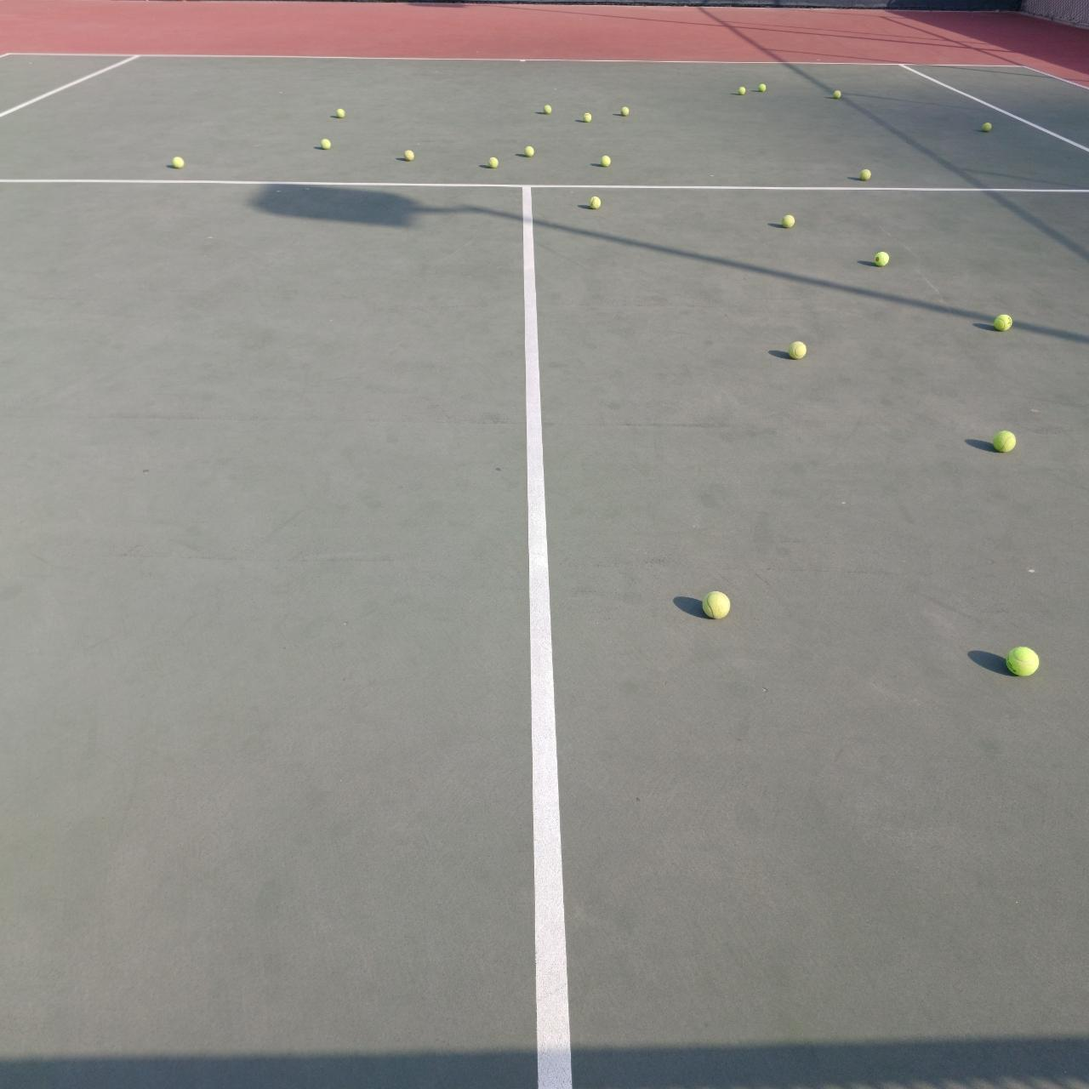tennis-ball: (1005, 643, 1040, 676), (701, 588, 731, 619), (990, 427, 1017, 453), (991, 311, 1012, 331), (787, 339, 807, 359), (872, 249, 889, 266), (170, 154, 184, 168), (782, 215, 795, 228), (589, 196, 601, 210), (860, 169, 872, 181), (320, 138, 331, 150), (600, 155, 611, 167), (404, 150, 415, 161), (524, 146, 535, 157), (487, 158, 499, 168), (620, 106, 630, 117), (336, 108, 345, 118), (583, 113, 592, 123), (982, 123, 992, 132), (543, 105, 552, 114), (758, 83, 767, 92), (738, 86, 746, 96), (833, 90, 841, 99)
